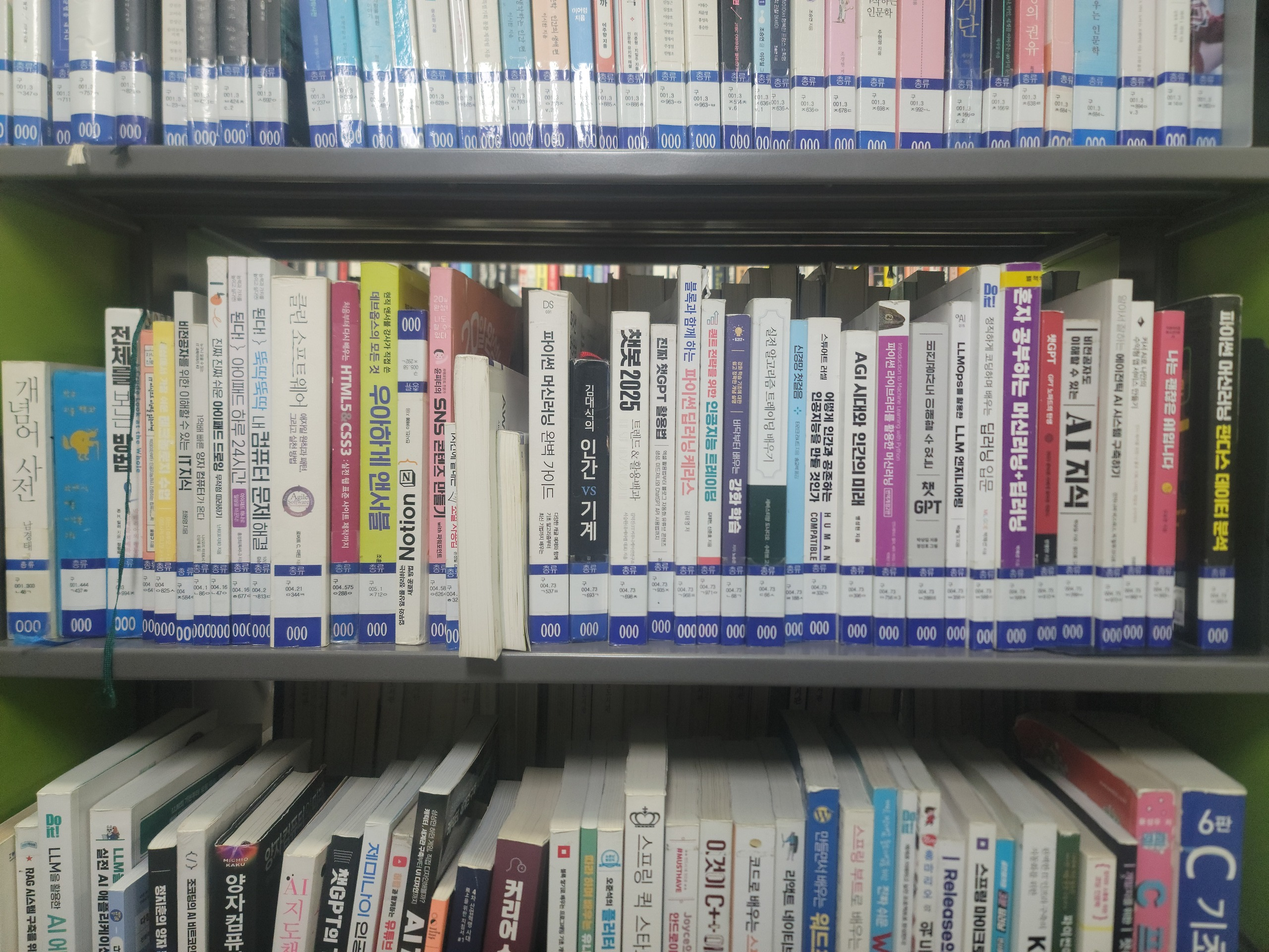book-spine: (271, 278, 327, 648), (996, 264, 1041, 650), (744, 298, 789, 647), (1199, 295, 1242, 651), (526, 290, 569, 644), (51, 371, 107, 642), (0, 361, 54, 640), (359, 265, 398, 644), (1056, 320, 1100, 646), (906, 323, 949, 647), (1096, 278, 1132, 652), (610, 311, 649, 646), (1147, 311, 1185, 647), (803, 317, 841, 646), (873, 300, 909, 647), (839, 330, 876, 646), (106, 308, 141, 642), (971, 262, 1001, 650), (1121, 300, 1154, 647), (570, 359, 610, 645), (330, 282, 361, 643), (1031, 310, 1063, 650), (395, 309, 426, 642), (695, 300, 725, 644), (720, 314, 751, 646), (674, 266, 701, 644), (943, 299, 972, 648), (427, 266, 453, 644), (227, 255, 251, 645), (247, 258, 271, 647), (648, 324, 677, 645), (206, 259, 230, 646), (783, 321, 808, 646), (153, 324, 175, 643), (174, 294, 192, 645), (193, 324, 212, 645), (445, 328, 461, 652), (142, 339, 156, 642)
